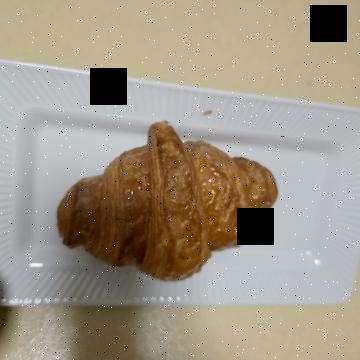croissant: (98, 75, 286, 314)
